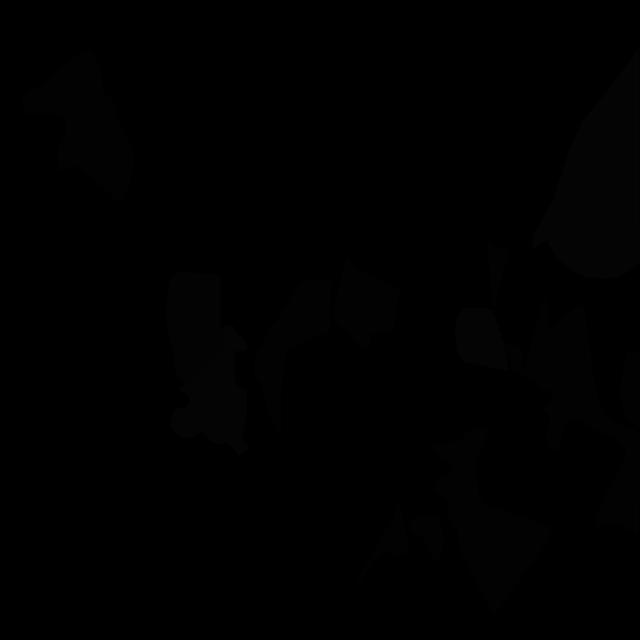cardboard: (504, 297, 640, 537), (432, 426, 553, 615), (22, 50, 134, 205), (254, 279, 333, 433), (334, 256, 401, 350), (354, 502, 408, 588), (408, 515, 444, 564), (620, 345, 640, 429), (487, 239, 510, 312)
metal: (166, 272, 222, 384)
soft_plastic: (532, 47, 640, 279), (170, 324, 249, 455), (455, 307, 509, 371)
